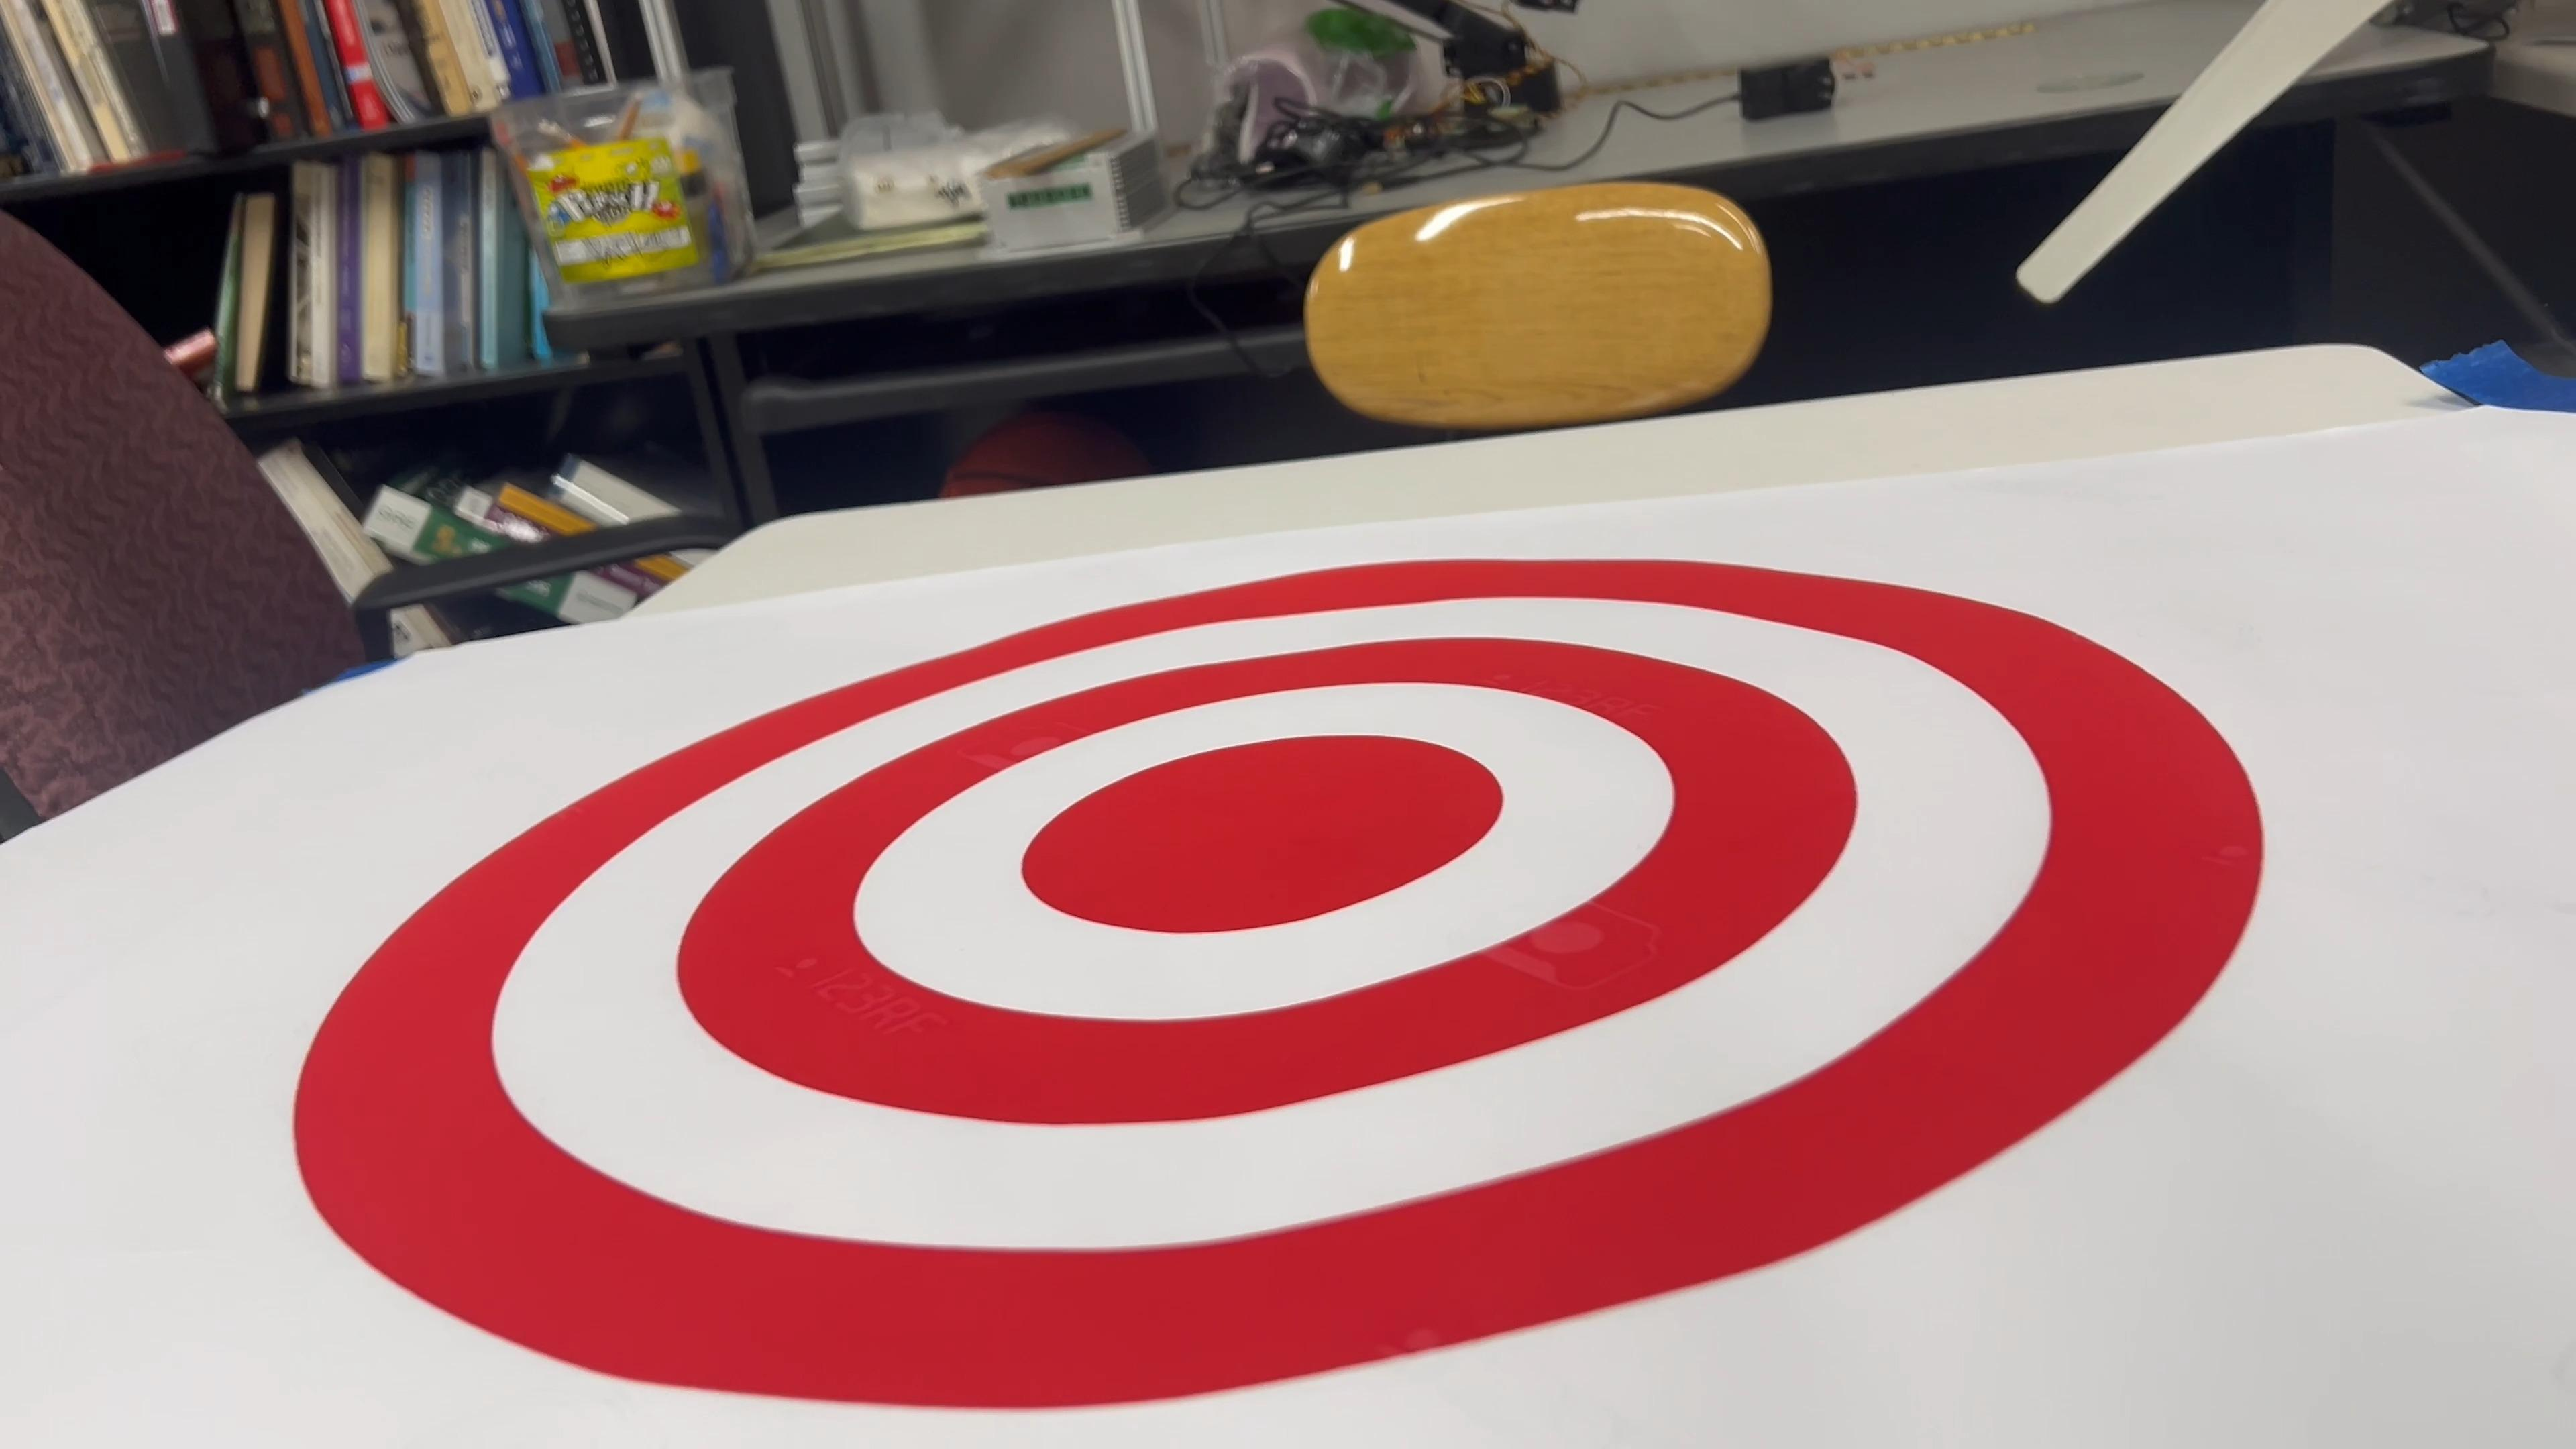target_red: (270, 521, 2312, 1449)
